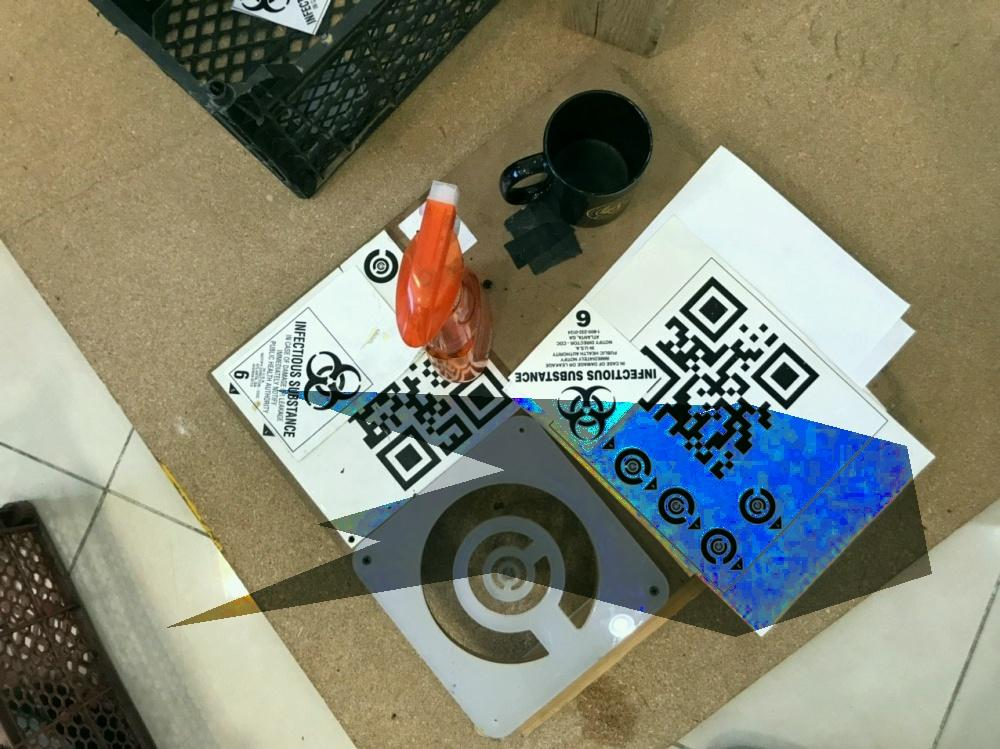infectious-substance: (219, 287, 375, 468), (503, 293, 656, 452)
